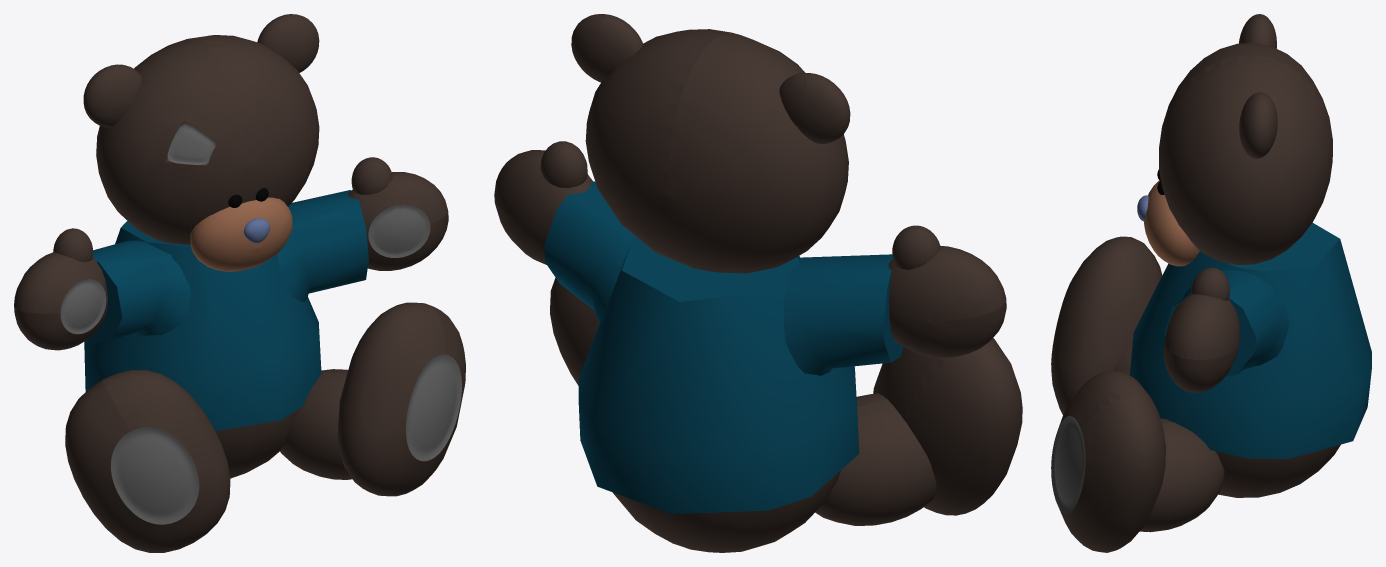
File: teddy.FBX
3 views of the same model, side by side, from view 1: azimuth 30°, elevation 25°; view 2: azimuth 150°, elevation 25°; view 3: azimuth 270°, elevation 25° (orthographic). The views are drawn at different scales.
Visible parts, largest first — view 1: Sphere01, Cylinder01, Sphere15.Sphere20, Sphere15, body, Cylinder03, Cylinder02, Object02.Object04, Sphere12.Sphere18, Sphere02, Sphere17, Sphere12 (+6 smaller); view 2: Cylinder01, Sphere01, Sphere15.Sphere20, Cylinder03, Sphere12.Sphere18, Sphere17.Sphere19, Cylinder02, Sphere14, Sphere12, Sphere03, Sphere03.Sphere08, Sphere15 (+2 smaller); view 3: Cylinder01, Sphere01, Sphere15, Sphere15.Sphere20, Sphere12, Sphere17, Cylinder02, Sphere14, body, Sphere02, Sphere03.Sphere08, Sphere11 (+1 smaller).
Boxes of the visible parts, left/top/right/bottom form: Sphere01: left=96, top=35, right=319, bottom=244; Cylinder01: left=84, top=221, right=321, bottom=431; Sphere15.Sphere20: left=65, top=370, right=230, bottom=552; Sphere15: left=337, top=302, right=465, bottom=496; body: left=167, top=124, right=461, bottom=461; Cylinder03: left=71, top=240, right=190, bottom=343; Cylinder02: left=277, top=190, right=368, bottom=302; Object02.Object04: left=111, top=427, right=199, bottom=524; Sphere12.Sphere18: left=14, top=252, right=107, bottom=350; Sphere02: left=190, top=197, right=292, bottom=271; Sphere17: left=280, top=369, right=407, bottom=479; Sphere12: left=348, top=172, right=448, bottom=270; Cylinder01: left=578, top=237, right=859, bottom=514; Sphere01: left=585, top=29, right=848, bottom=273; Sphere15.Sphere20: left=873, top=338, right=1022, bottom=515; Cylinder03: left=783, top=254, right=903, bottom=375; Sphere12.Sphere18: left=888, top=246, right=1006, bottom=357; Sphere17.Sphere19: left=815, top=393, right=936, bottom=525; Cylinder02: left=544, top=181, right=636, bottom=324; Sphere14: left=612, top=470, right=840, bottom=552; Sphere12: left=494, top=150, right=592, bottom=264; Sphere03: left=779, top=73, right=850, bottom=143; Sphere03.Sphere08: left=571, top=14, right=642, bottom=82; Sphere15: left=550, top=278, right=599, bottom=385; Cylinder01: left=1130, top=222, right=1371, bottom=458; Sphere01: left=1159, top=43, right=1332, bottom=264; Sphere15: left=1051, top=370, right=1165, bottom=552; Sphere15.Sphere20: left=1051, top=236, right=1162, bottom=414; Sphere12: left=1163, top=294, right=1240, bottom=392; Sphere17: left=1140, top=418, right=1224, bottom=532; Cylinder02: left=1164, top=270, right=1289, bottom=376; Sphere14: left=1215, top=444, right=1340, bottom=497; body: left=1051, top=416, right=1085, bottom=513; Sphere02: left=1144, top=180, right=1199, bottom=266; Sphere03.Sphere08: left=1239, top=92, right=1277, bottom=158; Sphere11: left=1191, top=267, right=1229, bottom=300.
Size of the model in its own units: 0.5236 by 0.5011 by 0.3334.
